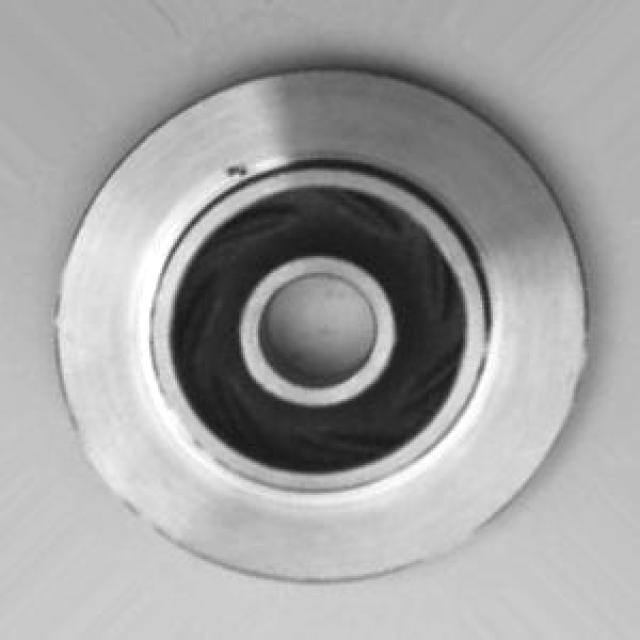Defect: (221, 154, 258, 187)
